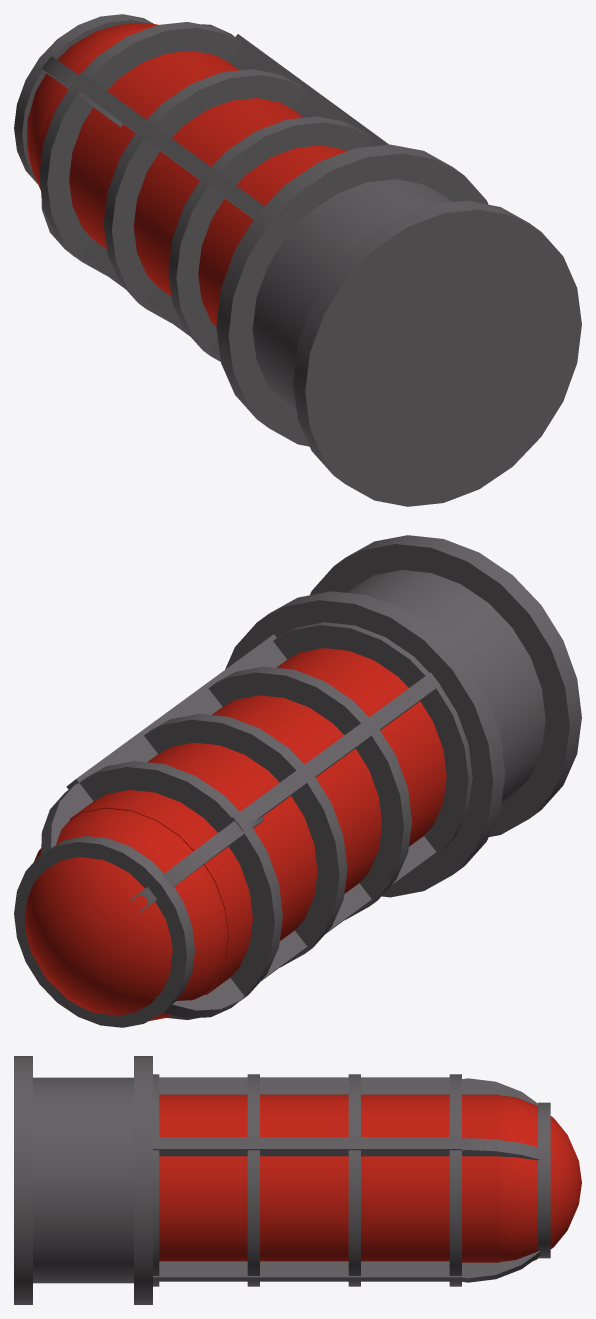
Rendered from alarm.fbx.
3 views of the same model, one above another, from view 1: azimuth 30°, elevation 25°; view 2: azimuth 150°, elevation 25°; view 3: azimuth 270°, elevation 25° (orthographic). The views are drawn at different scales.
Parts seen in each view (by area): view 1: alarm; view 2: alarm; view 3: alarm.
Boxes of the visible parts, bbox=[...] form: alarm: bbox=[14, 14, 581, 506]; alarm: bbox=[14, 535, 581, 1027]; alarm: bbox=[14, 1056, 581, 1304].
Size of the model in its own units: 77.99 by 77.99 by 177.
